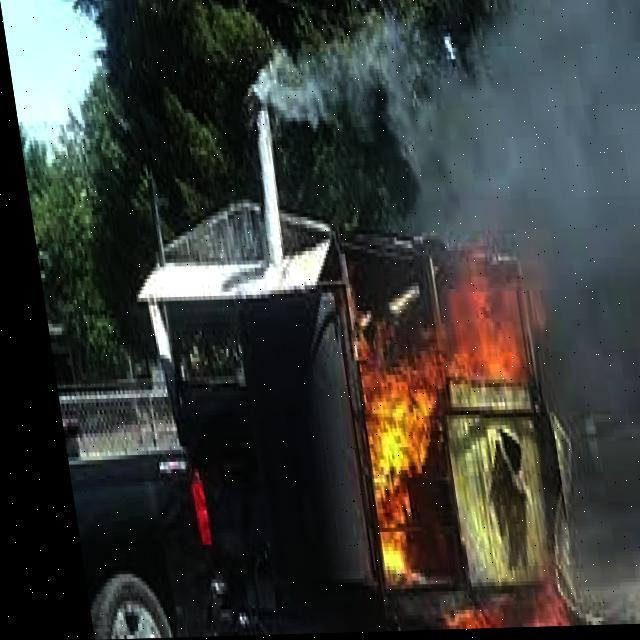Fire: (326, 307, 466, 610), (427, 255, 543, 406)
